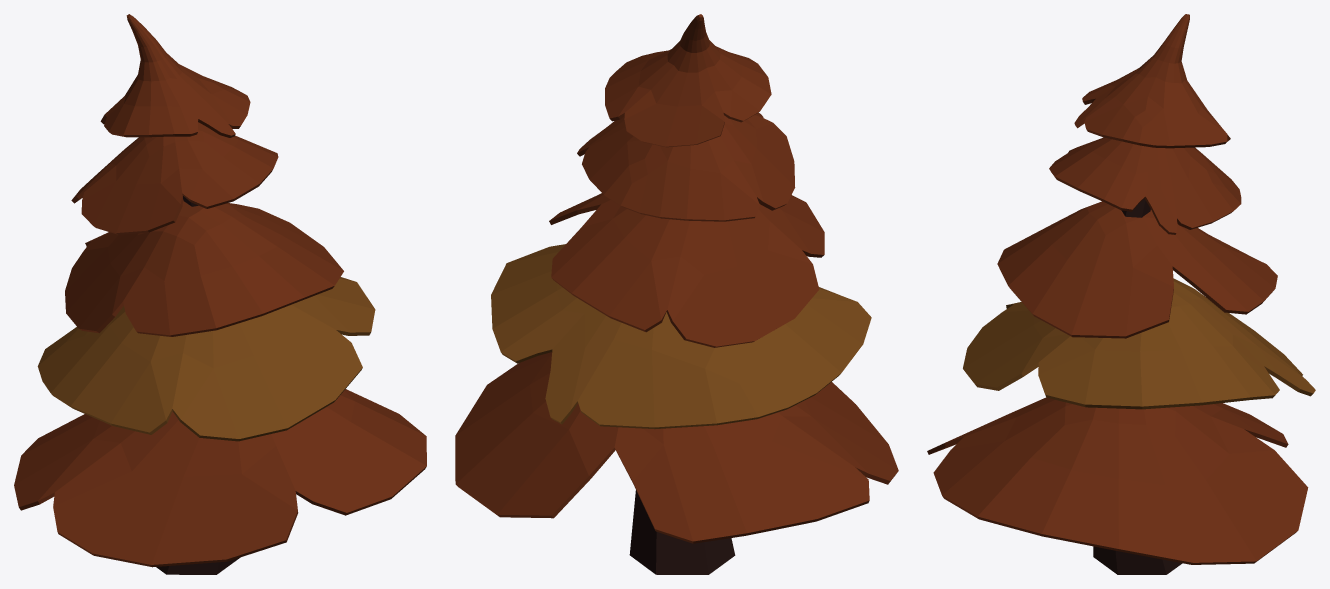
File: PineTree_Autumn_1.obj
3 views of the same model, side by side, from view 1: azimuth 30°, elevation 25°; view 2: azimuth 150°, elevation 25°; view 3: azimuth 270°, elevation 25° (orthographic). The views are drawn at different scales.
Parts seen in each view (by area): view 1: PineTree_Autumn_1_Cylinder.065; view 2: PineTree_Autumn_1_Cylinder.065; view 3: PineTree_Autumn_1_Cylinder.065.
Boxes of the visible parts, x1,y1,x2,y2 form: PineTree_Autumn_1_Cylinder.065: [14, 14, 426, 574]; PineTree_Autumn_1_Cylinder.065: [455, 14, 898, 574]; PineTree_Autumn_1_Cylinder.065: [927, 14, 1315, 574].
Bounding box in the file's own units: 1.96 × 2.7 × 1.82.
